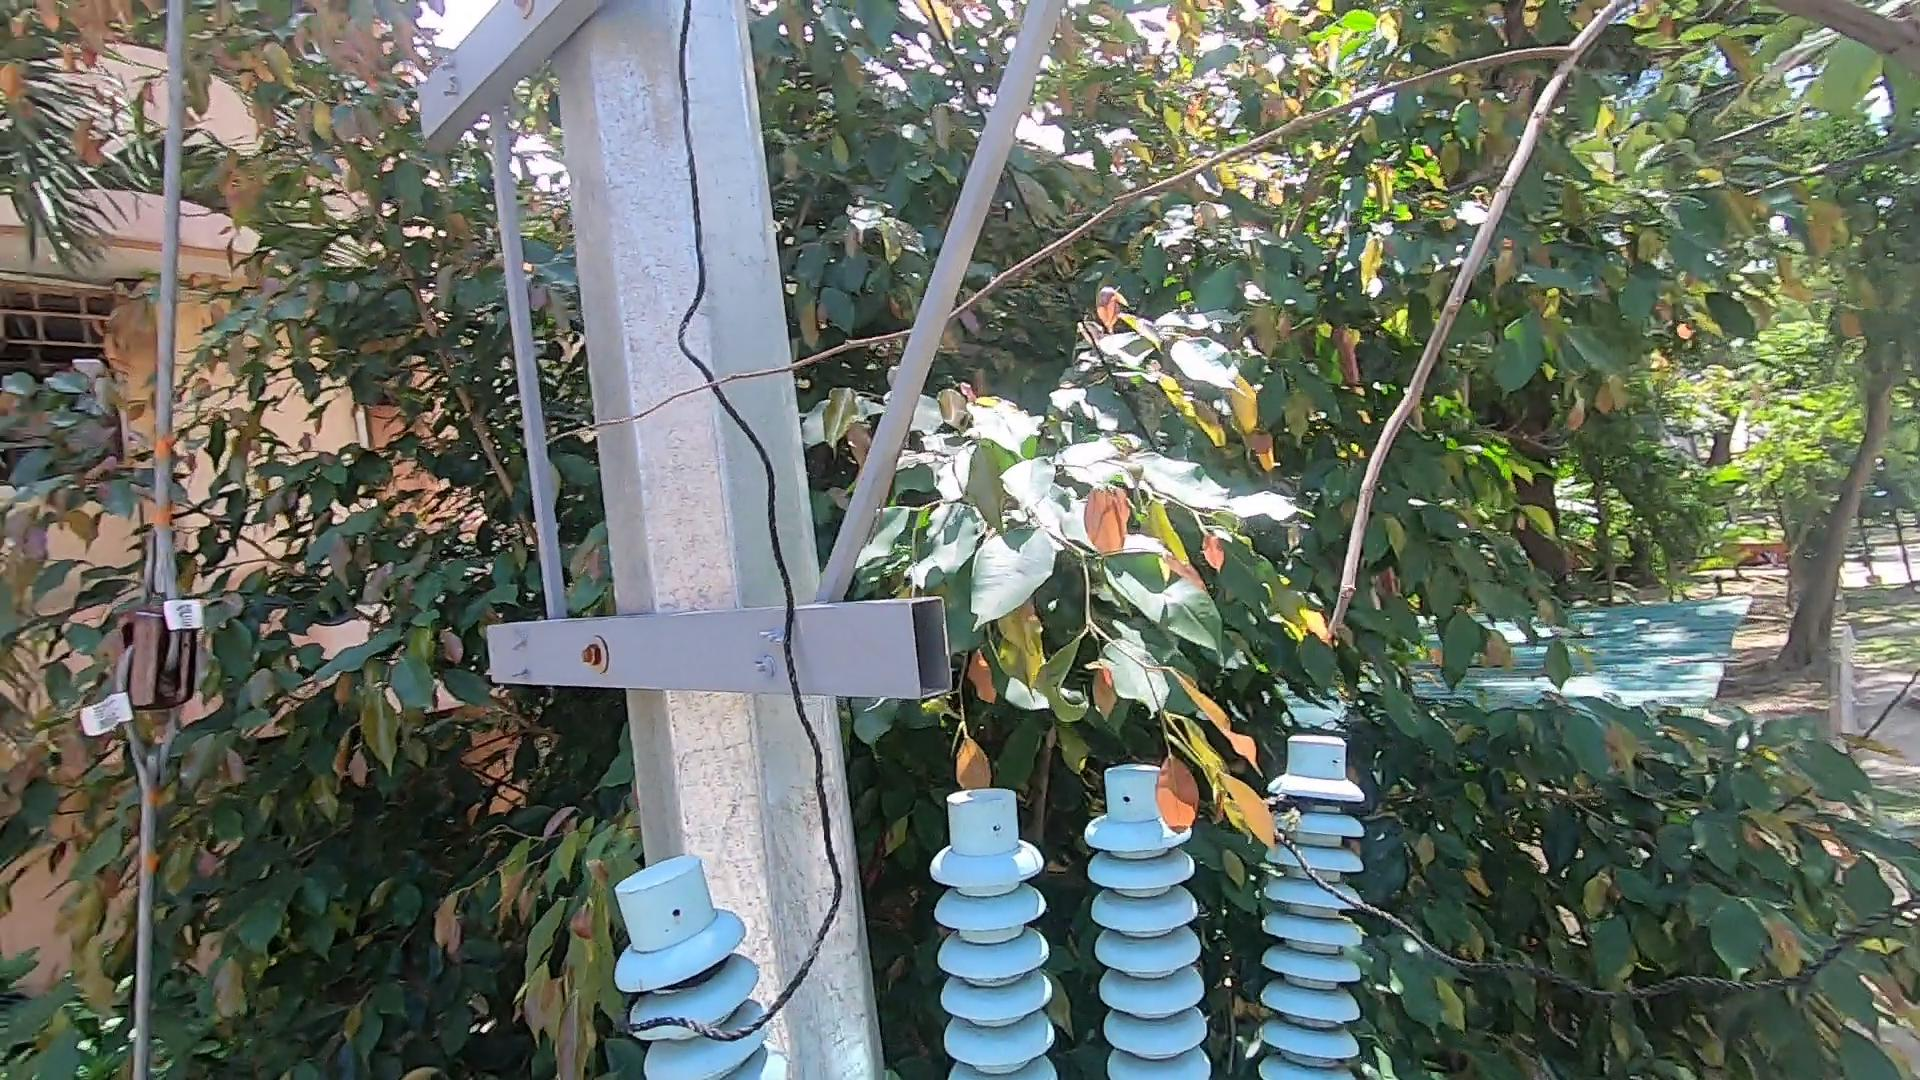branch with leaves: (1102, 676, 1305, 853)
tree branch: (404, 47, 1714, 641)
